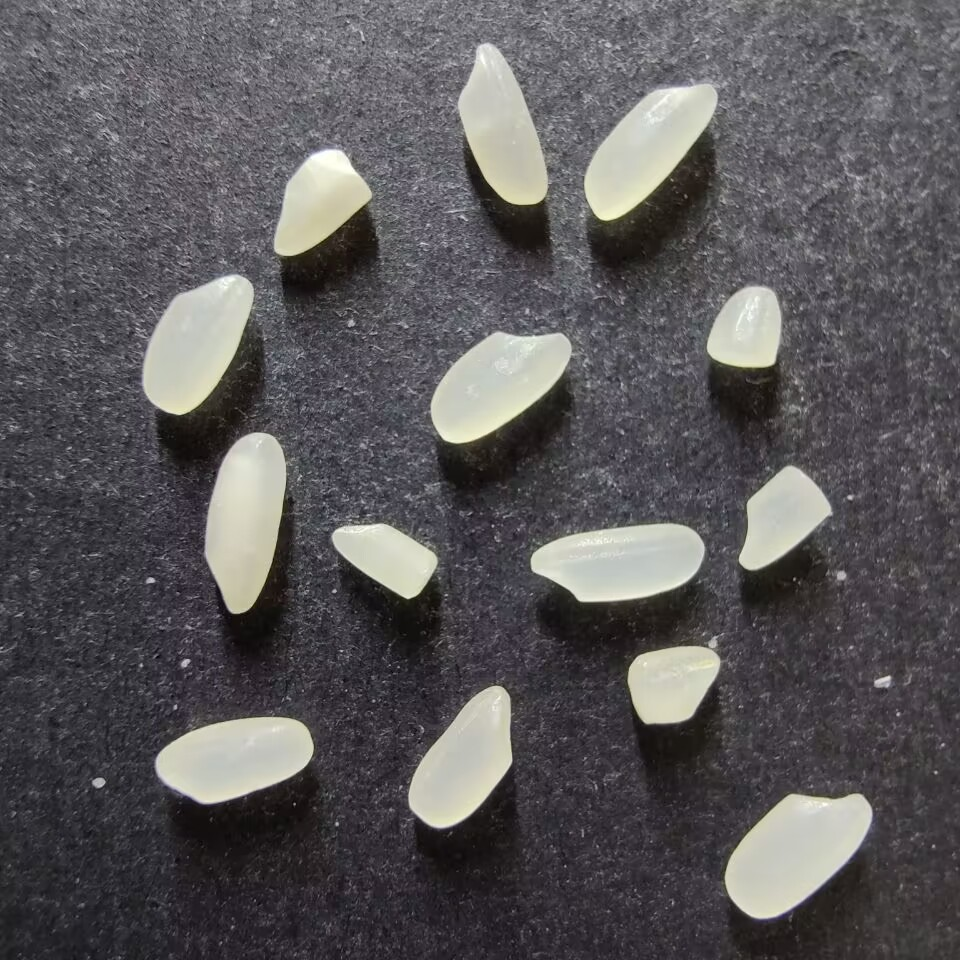broken: (272, 148, 373, 258), (736, 464, 831, 571), (330, 522, 438, 599), (626, 645, 721, 726), (705, 286, 781, 369)
rice: (723, 790, 872, 920), (582, 81, 718, 221), (429, 330, 573, 444), (141, 273, 253, 415), (406, 684, 513, 829), (203, 432, 286, 616), (456, 42, 548, 206), (154, 715, 314, 804), (529, 523, 705, 603)
